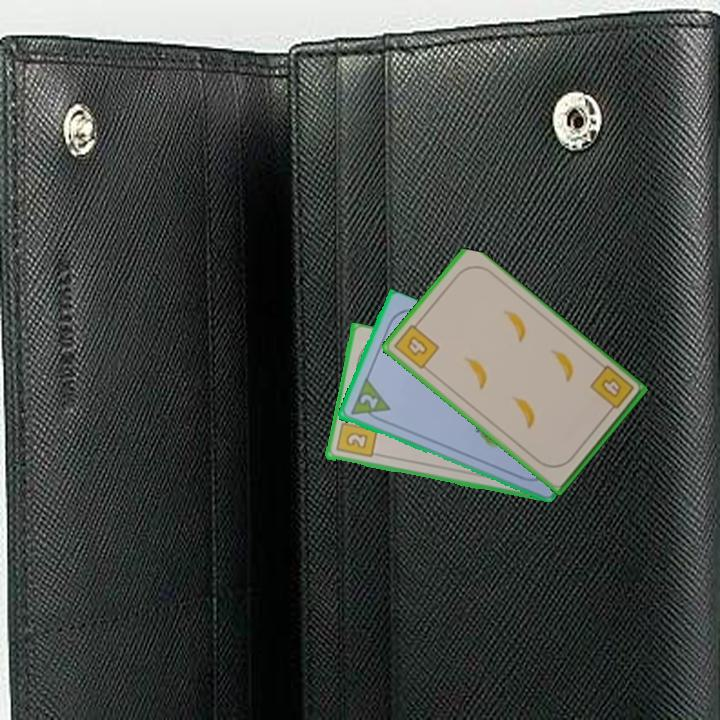2b: (332, 413, 379, 461)
2p: (346, 376, 393, 426)
4b: (390, 317, 442, 372), (586, 362, 637, 418)
